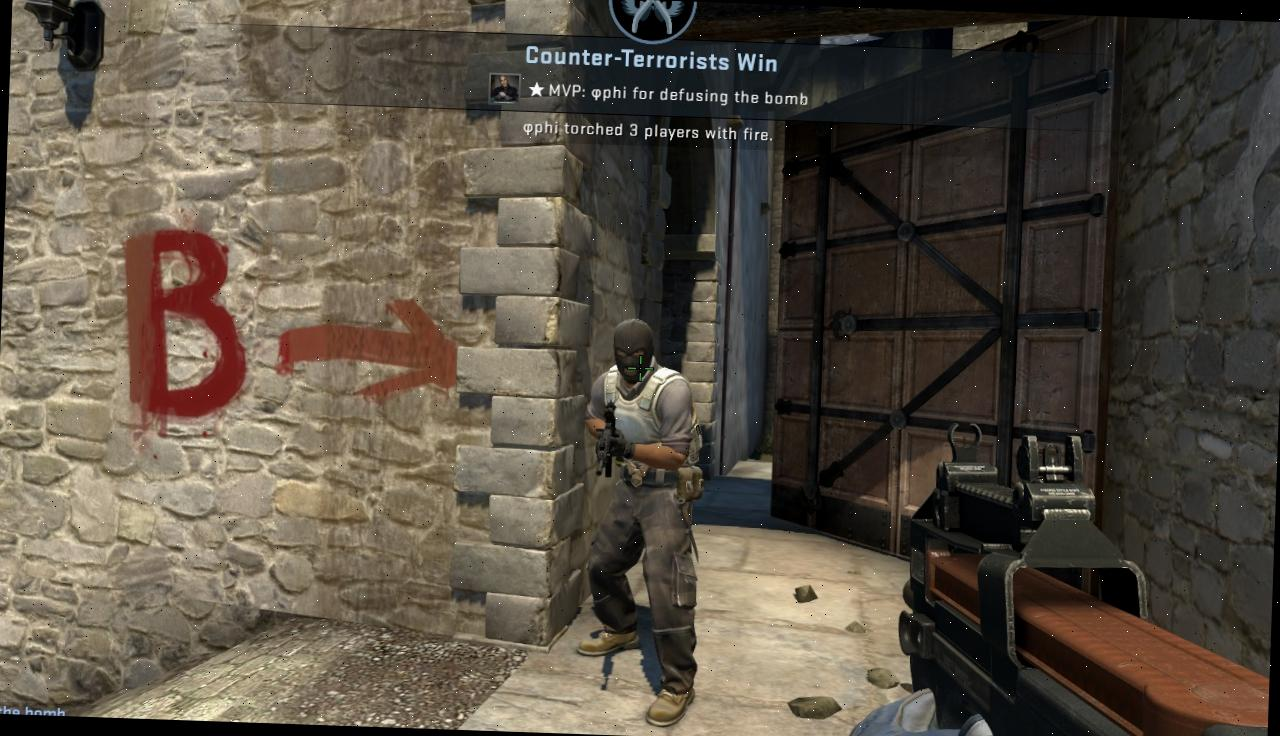rifle: (894, 423, 1278, 736)
tt: (576, 317, 706, 718)
tthead: (610, 318, 656, 384)
